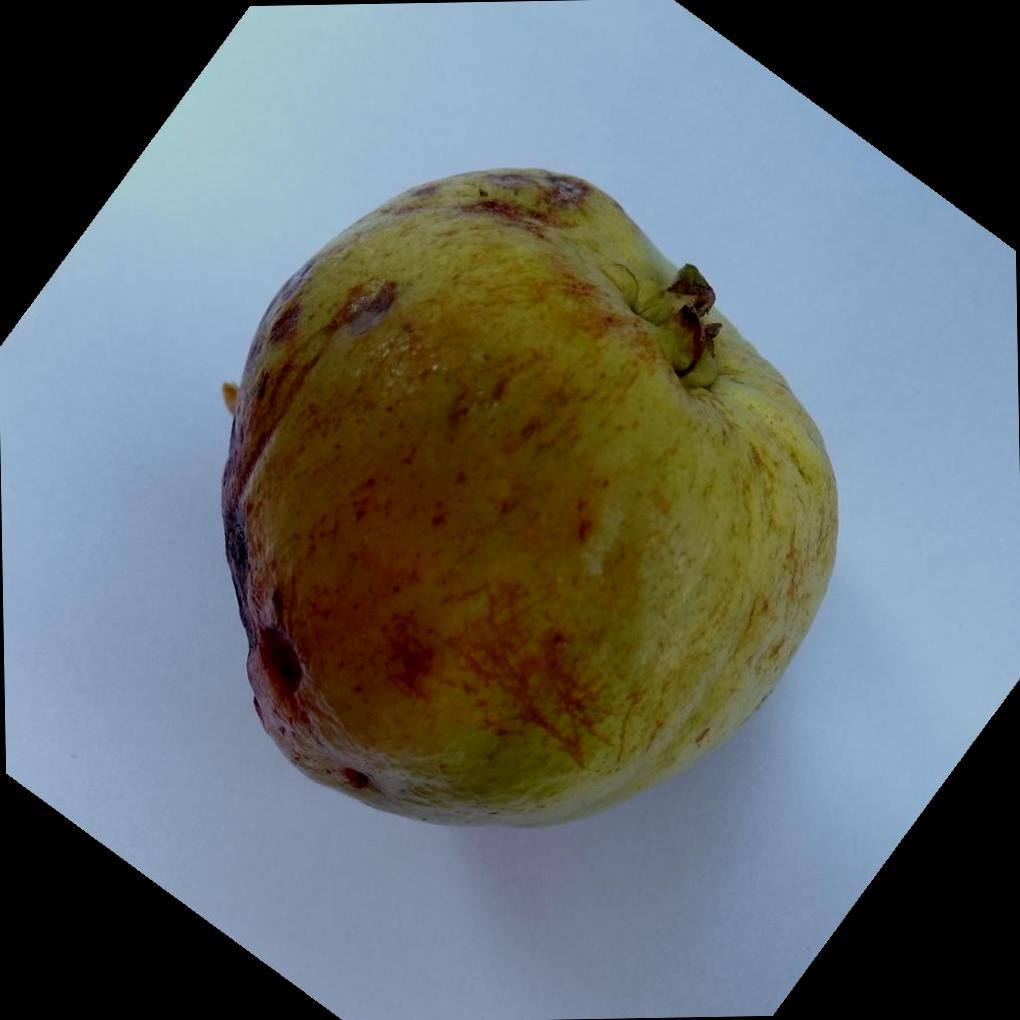FreshOrange: (220, 162, 839, 823)
